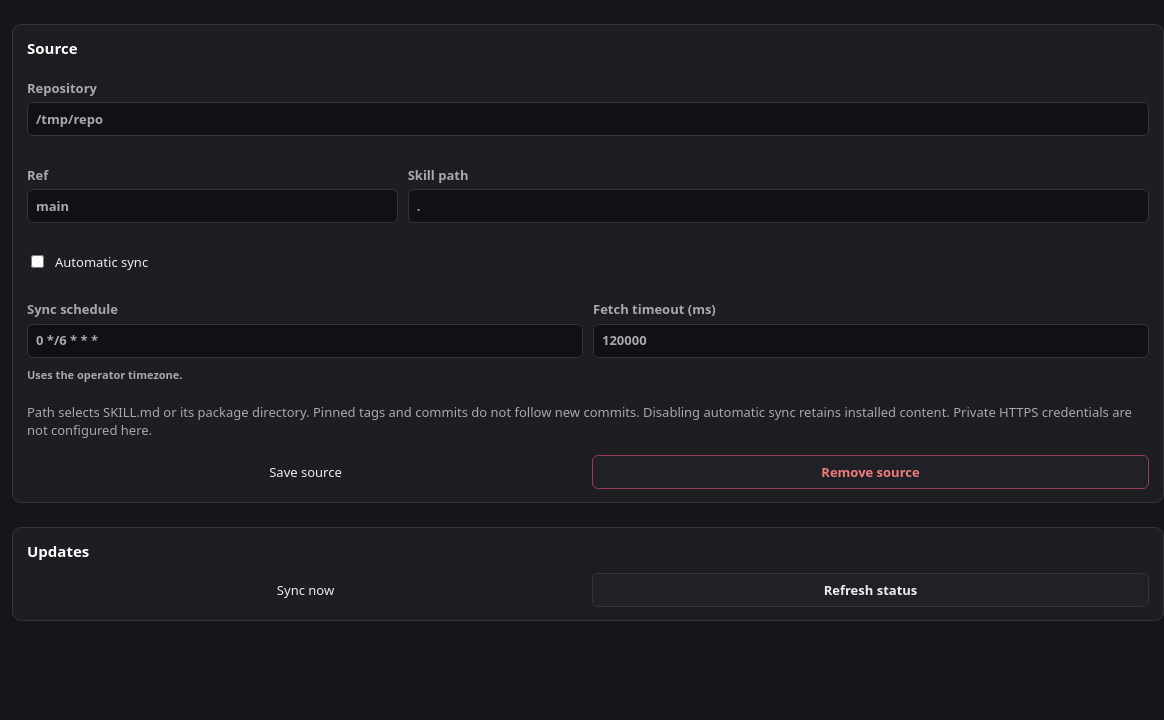
Test: reports sync failure and refreshes the persisted result rather than showing success
The width and height of the screenshot is (1164, 720).
Click the button "Sync now": click(306, 590) [27,573,584,607]
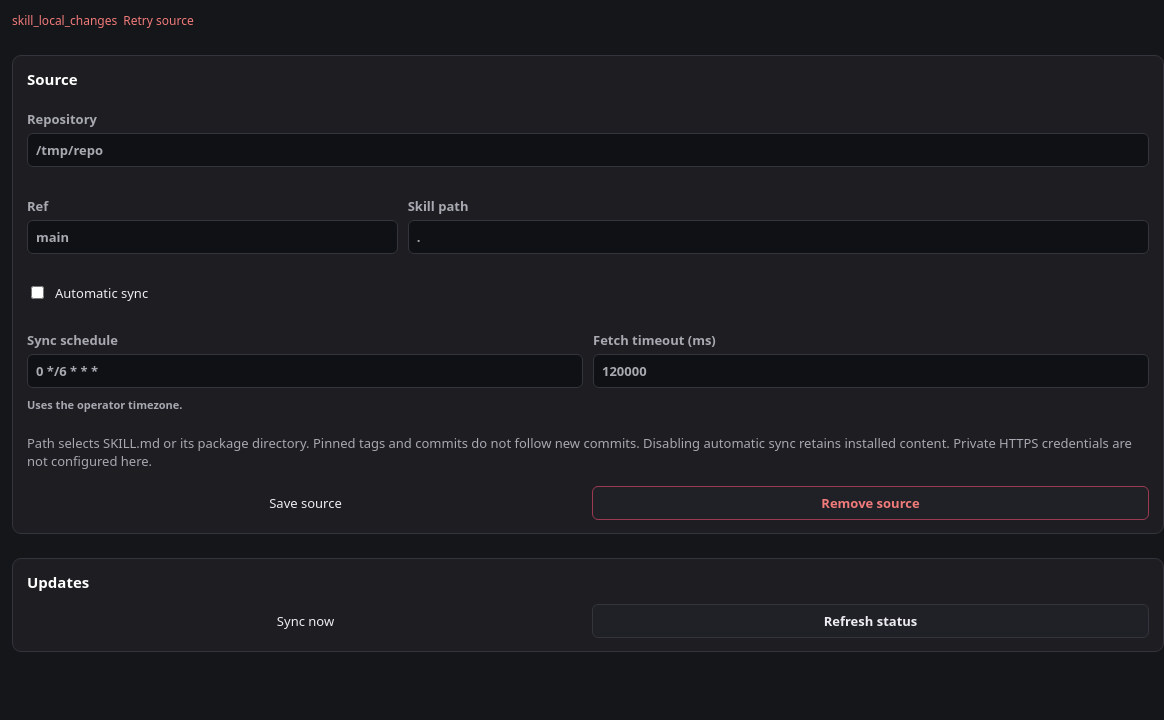
Expected: the message shows "skill_local_changes", [12,12,117,29]
